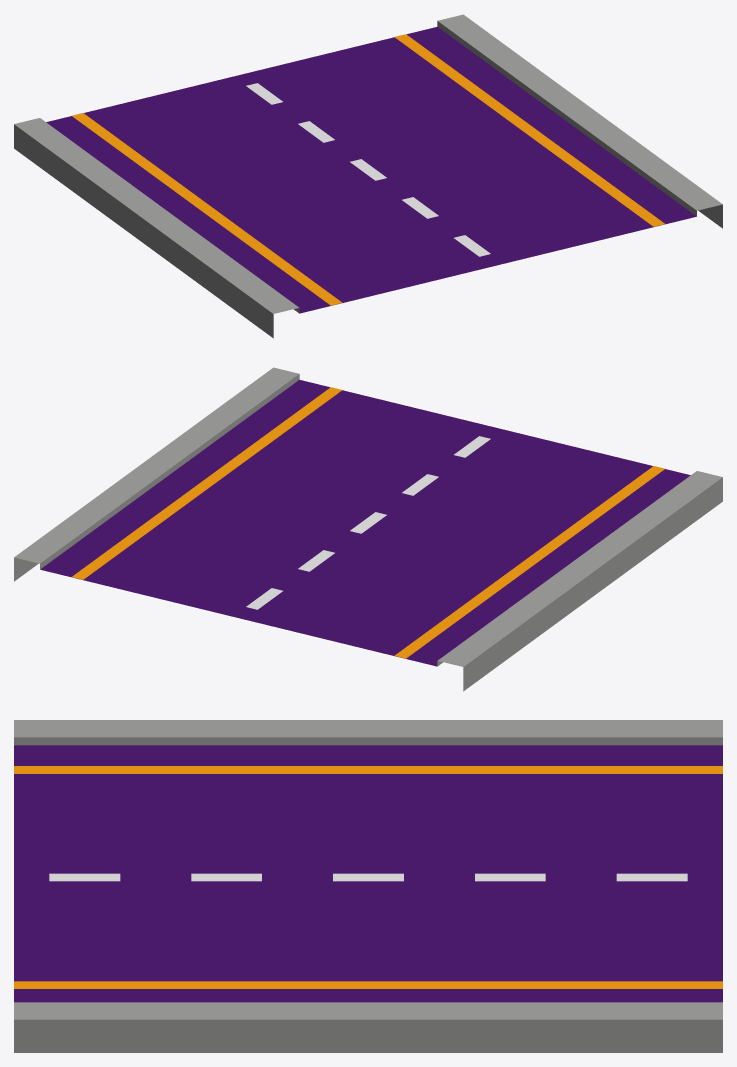
File: Road_C_1.fbx
3 renders of one model, top to bottom at view 1: azimuth 30°, elevation 25°; view 2: azimuth 150°, elevation 25°; view 3: azimuth 270°, elevation 25°, orthographic. The views are drawn at different scales.
Parts seen in each view (by area): view 1: Road_C_1; view 2: Road_C_1; view 3: Road_C_1.
Part boxes in pixels (x1=…): Road_C_1: x1=14, y1=14, x2=722, y2=338; Road_C_1: x1=14, y1=367, x2=722, y2=691; Road_C_1: x1=14, y1=720, x2=722, y2=1052.
Bounding box in the file's own units: 800 × 41.48 × 800.
